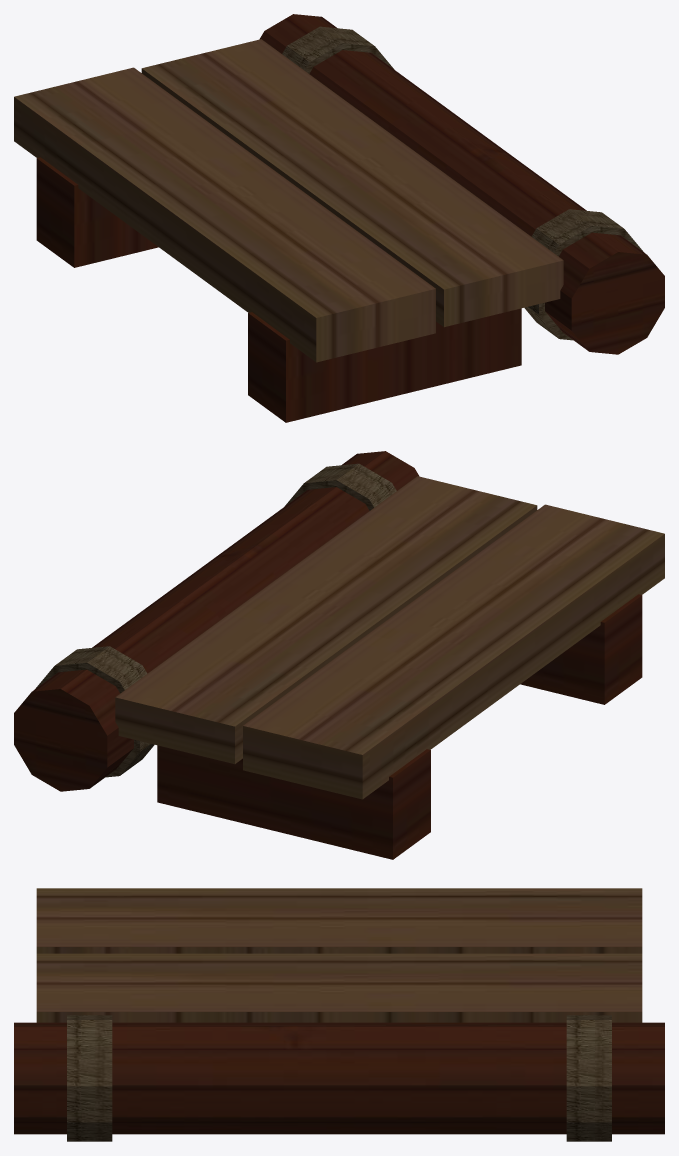
Rendered from plat_wood_end_01.glb.
The picture shows the model from 3 angles, top to bottom: view 1: azimuth 30°, elevation 25°; view 2: azimuth 150°, elevation 25°; view 3: azimuth 270°, elevation 25°; orthographic projection.
Visible parts, largest first — view 1: plat_wood_end_01; view 2: plat_wood_end_01; view 3: plat_wood_end_01.
Boxes of the visible parts, <box> form: plat_wood_end_01: <box>14,14,664,422</box>; plat_wood_end_01: <box>14,451,664,859</box>; plat_wood_end_01: <box>14,888,664,1141</box>.
Bounding box in the file's own units: 0.5308 × 0.195 × 0.86.
Materials: 3 (3 with a texture image).
